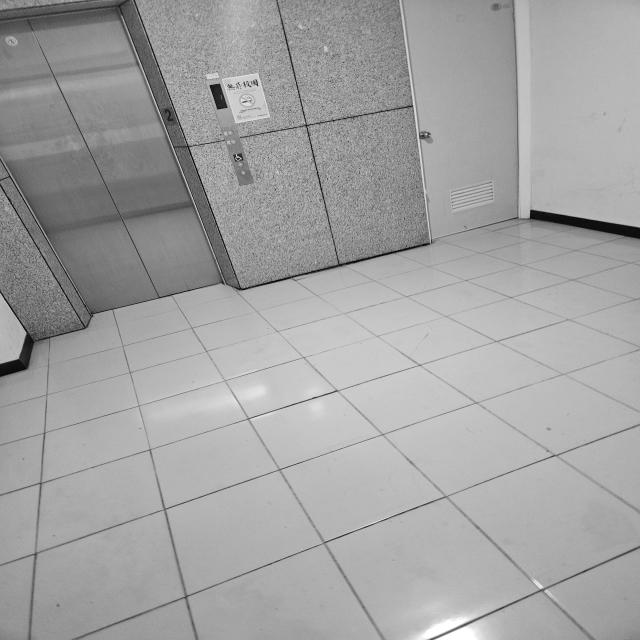Road-Object: (0, 220, 640, 640)
